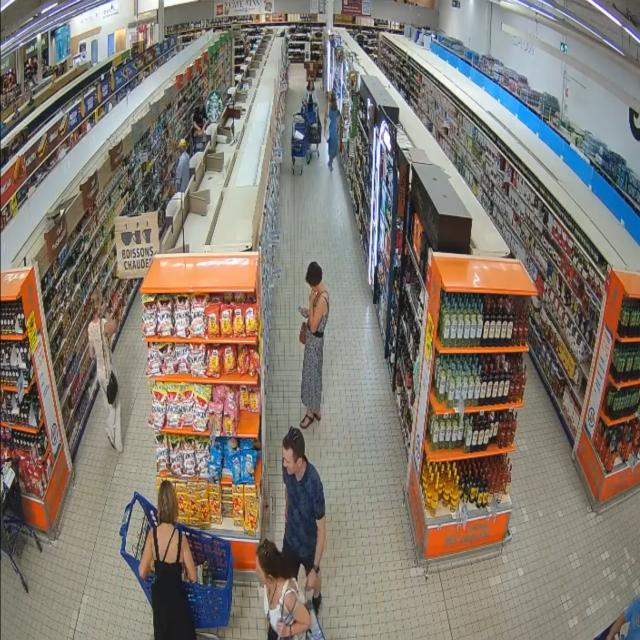bags: (281, 581, 325, 639), (106, 352, 118, 405), (324, 103, 332, 141), (299, 322, 307, 344)
hands: (307, 569, 318, 590), (276, 622, 291, 637), (310, 290, 317, 301), (302, 307, 309, 316)
person: (140, 481, 196, 639), (282, 427, 326, 613), (88, 292, 122, 452), (256, 540, 310, 639), (300, 262, 329, 428), (325, 92, 338, 170), (176, 139, 190, 192)
